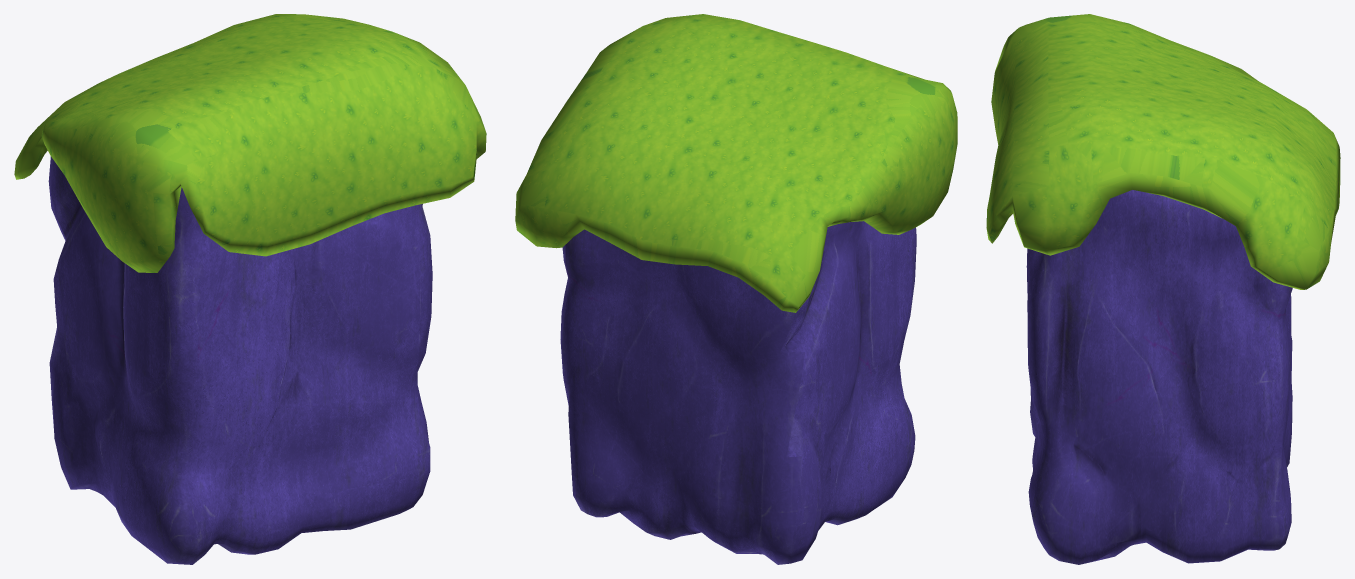
Rendered from Montaña1_Texturizado1.fbx.
The picture shows the model from 3 angles, left to right: view 1: azimuth 30°, elevation 25°; view 2: azimuth 150°, elevation 25°; view 3: azimuth 270°, elevation 25°; orthographic projection. The views are drawn at different scales.
Parts seen in each view (by area): view 1: Rocalowpoly.004; view 2: Rocalowpoly.004; view 3: Rocalowpoly.004.
Boxes of the visible parts, left/top/right/bottom form: Rocalowpoly.004: left=14, top=14, right=486, bottom=564; Rocalowpoly.004: left=515, top=14, right=957, bottom=564; Rocalowpoly.004: left=986, top=14, right=1340, bottom=564.
Size of the model in its own units: 4120 by 5183 by 3672.
Materials: 2 (2 with a texture image).
